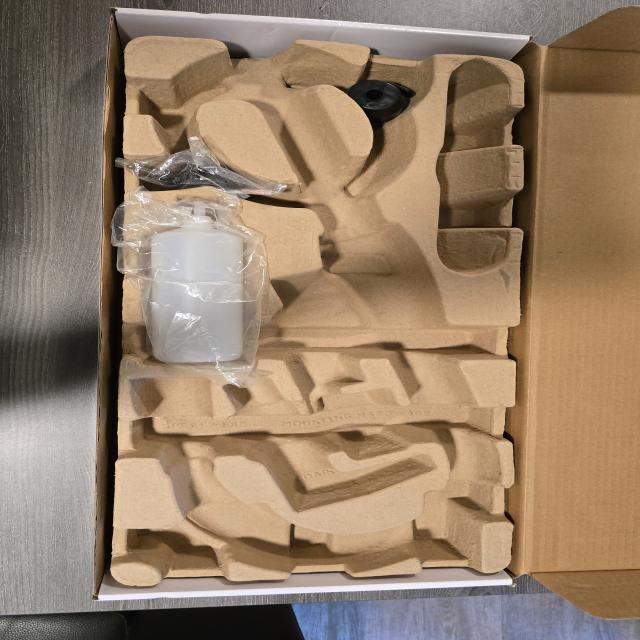1m: (129, 41, 496, 573)
2m: (226, 378, 435, 512)
3: (149, 199, 250, 364)
4m: (433, 58, 510, 277)
5: (347, 80, 420, 119)
6m: (137, 66, 233, 128)
7: (118, 135, 290, 194)
